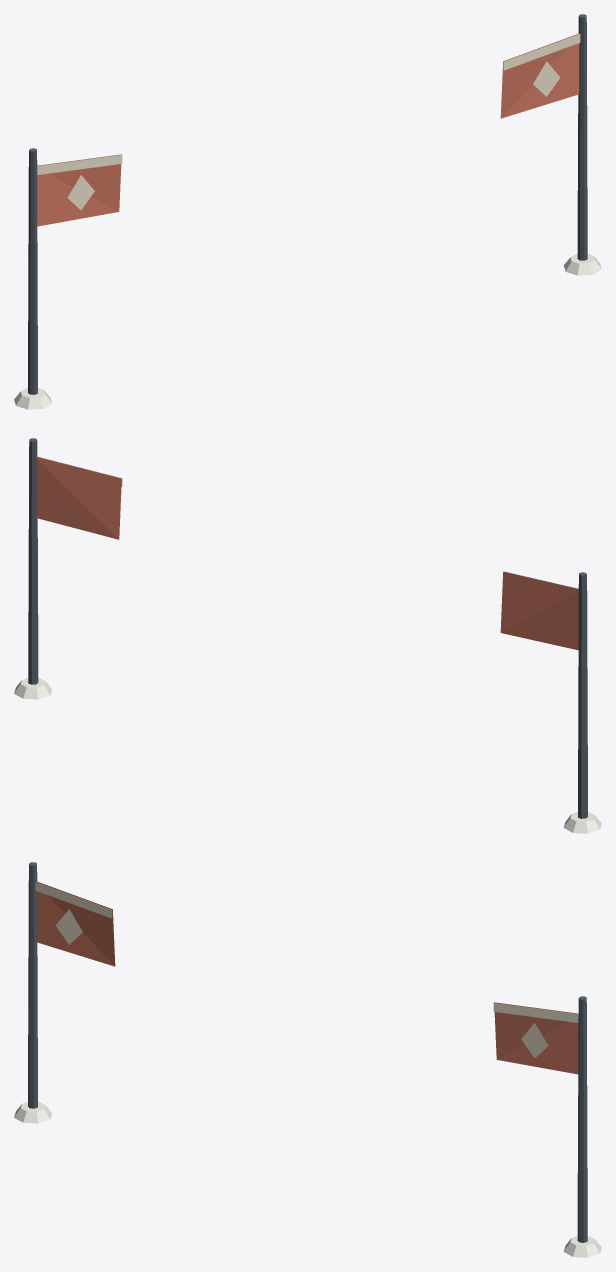
The model's file is gate-coral.glb.
The picture shows the model from 3 angles, top to bottom: view 1: azimuth 30°, elevation 25°; view 2: azimuth 150°, elevation 25°; view 3: azimuth 330°, elevation 25°; orthographic projection.
Visible parts, largest first — view 1: gate-coral; view 2: gate-coral; view 3: gate-coral.
Boxes of the visible parts, x1,y1,x2,y2 form: gate-coral: [14, 14, 601, 409]; gate-coral: [14, 438, 601, 833]; gate-coral: [14, 862, 601, 1257].
Bounding box in the file's own units: 6.8 × 2.8 × 0.4.
